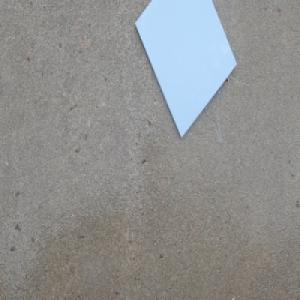PaintChip: (133, 0, 238, 140)
